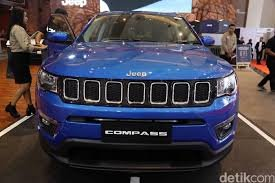mobil: (45, 17, 234, 181)
